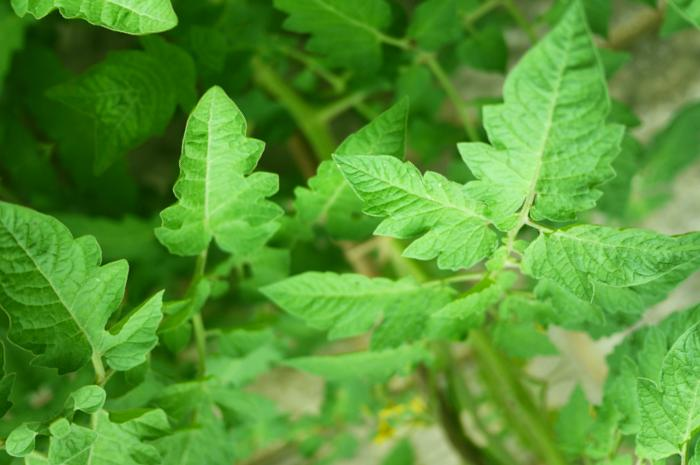Tomato leaf: (0, 127, 218, 432), (425, 0, 679, 257), (306, 78, 534, 317), (104, 69, 327, 304), (251, 196, 469, 401), (507, 147, 700, 345), (272, 280, 435, 426), (95, 392, 267, 465)
